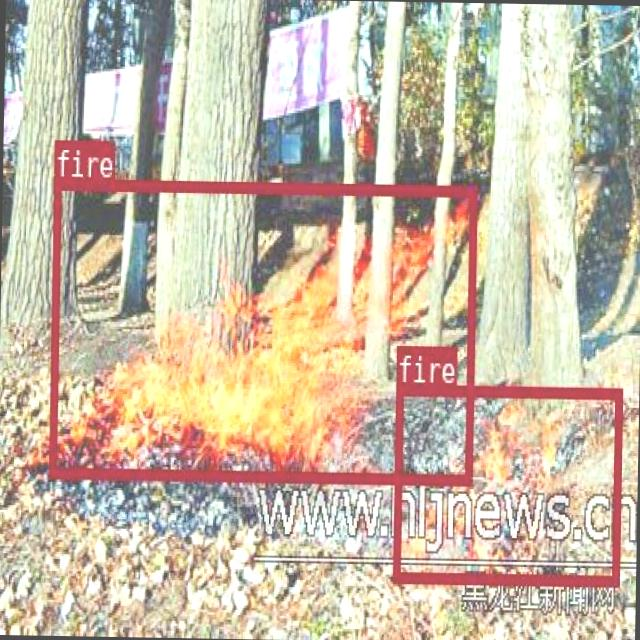fire: (48, 176, 476, 482), (390, 384, 620, 585)
